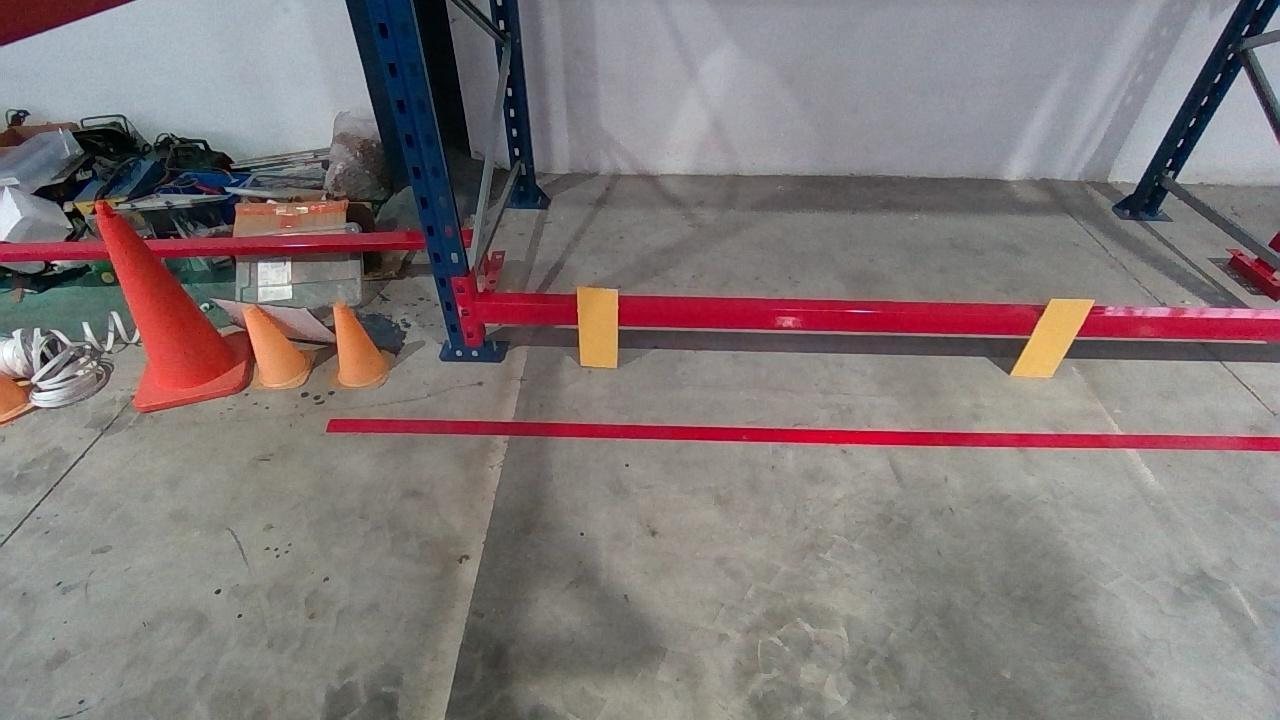h_rack: (478, 304, 1278, 340)
orange_strip: (1011, 298, 1100, 378), (577, 286, 619, 365)
red_line: (326, 417, 1276, 450)
